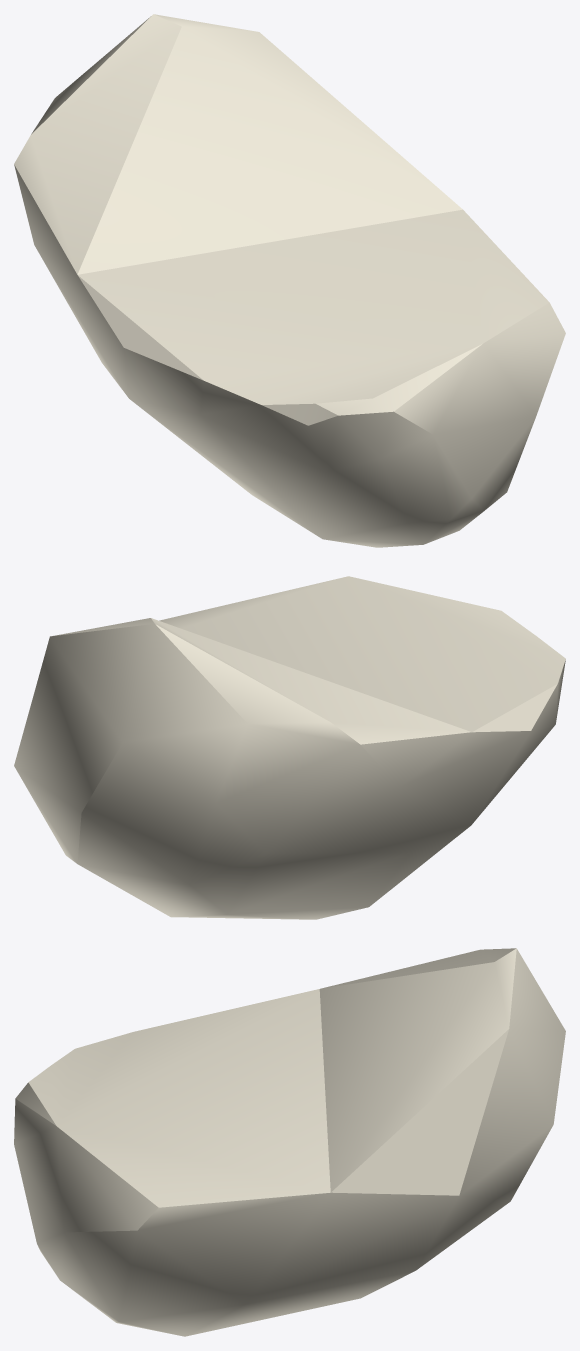
File: fma45098_fj6377.glb
The picture shows the model from 3 angles, top to bottom: view 1: azimuth 30°, elevation 25°; view 2: azimuth 150°, elevation 25°; view 3: azimuth 270°, elevation 25°; orthographic projection. The views are drawn at different scales.
Visible parts, largest first — view 1: FMA45098_FJ6377; view 2: FMA45098_FJ6377; view 3: FMA45098_FJ6377.
Boxes of the visible parts, bbox=[...] form: FMA45098_FJ6377: bbox=[14, 14, 565, 547]; FMA45098_FJ6377: bbox=[14, 576, 565, 919]; FMA45098_FJ6377: bbox=[14, 948, 565, 1336].
Bounding box in the file's own units: 0.00685 × 0.00655 × 0.00917.
